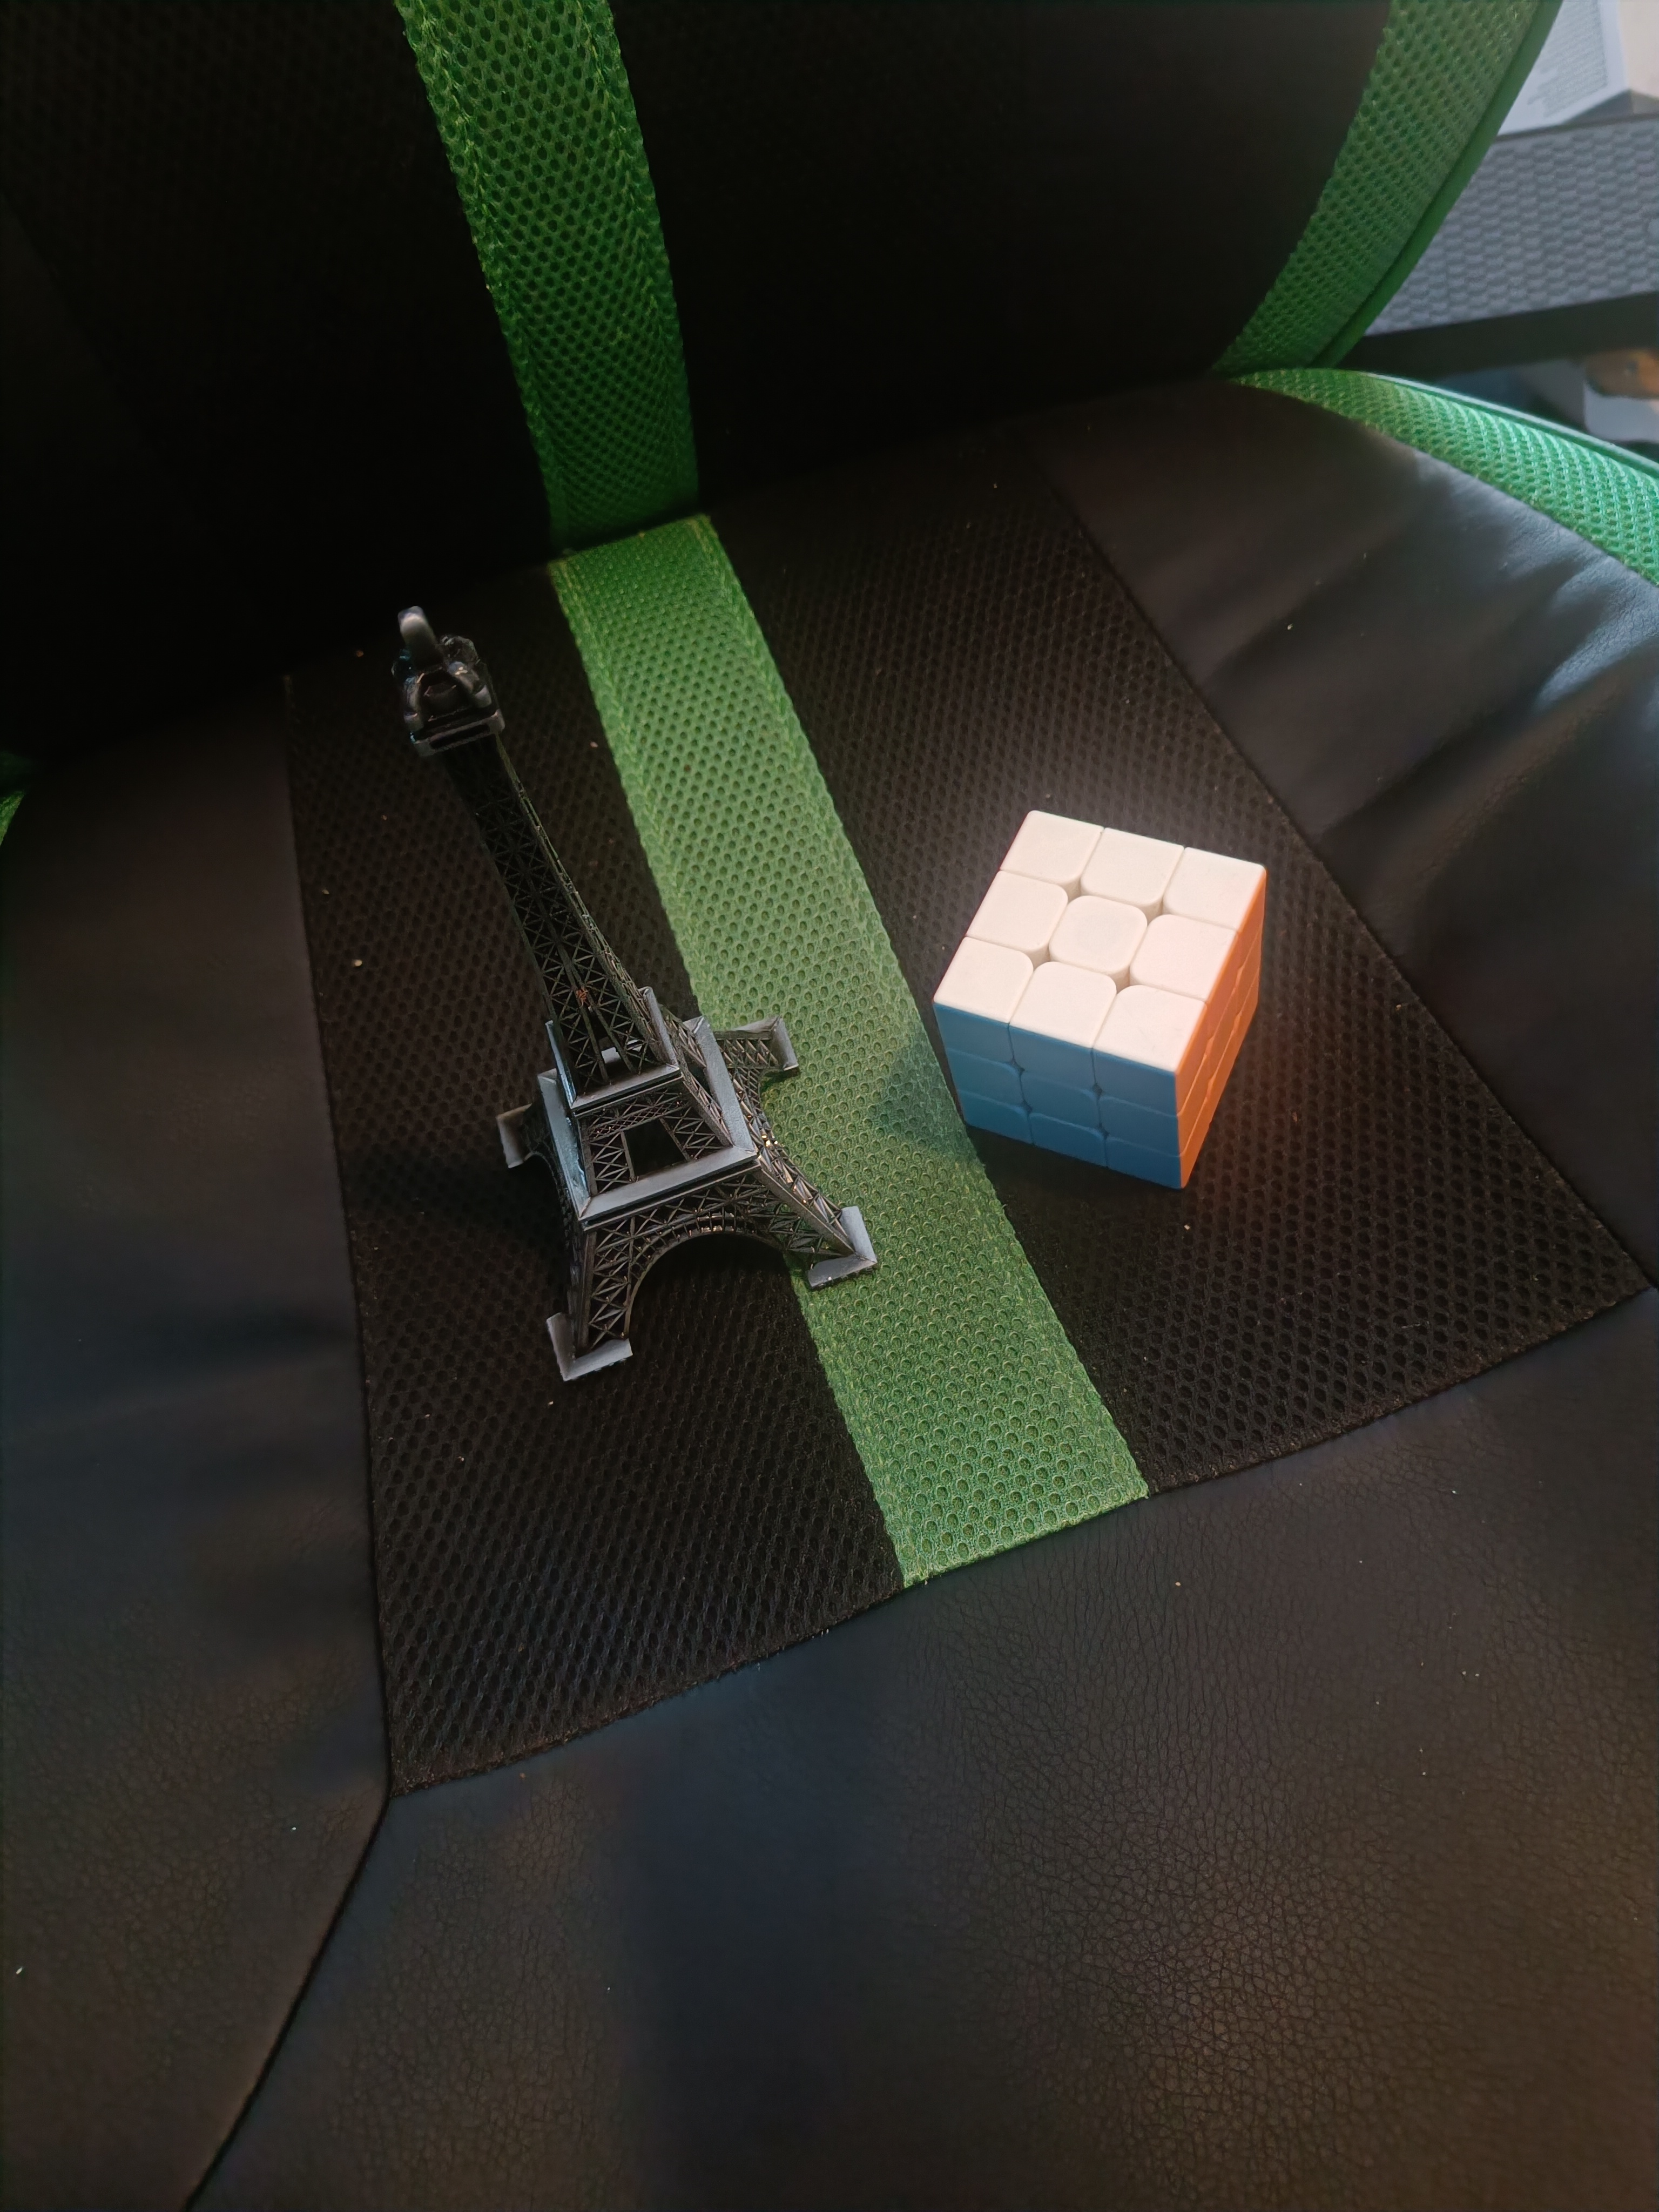Eiffel Tower: (375, 578, 880, 1390)
Rubiks Cube: (900, 797, 1301, 1197)
